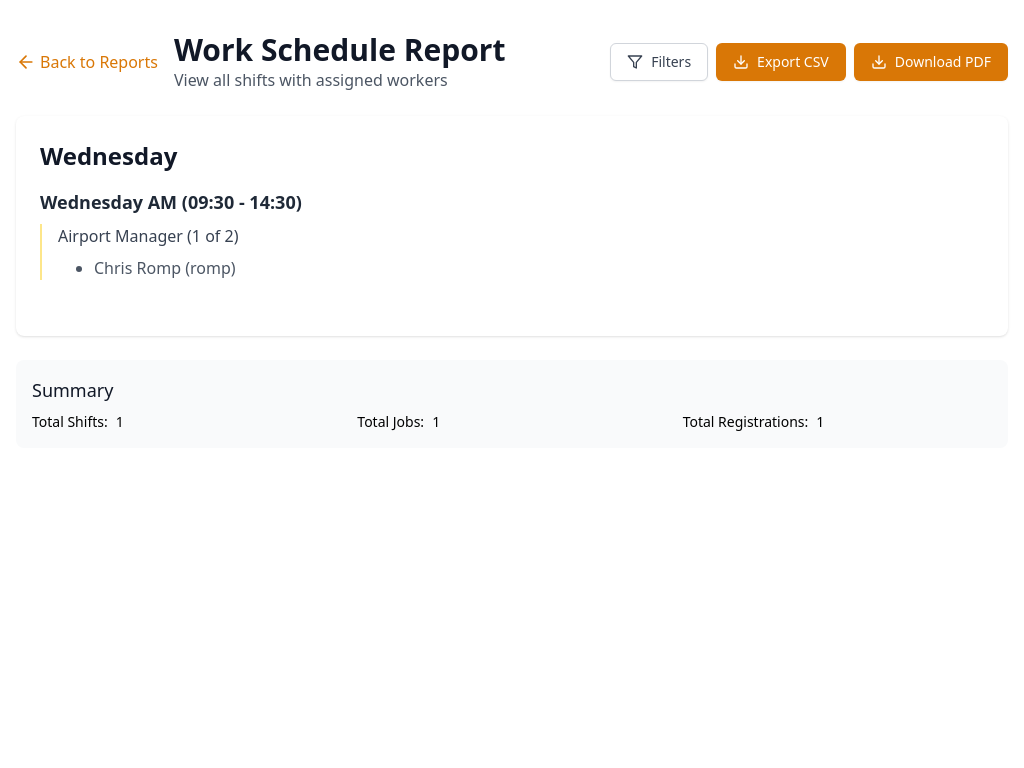
Test: WorkScheduleReportPage › shouldDisplayPdfGenerationErrors
Expected: the heading "Wednesday" is shown, [40,139,177,172]
Click the button "Download PDF": (931,62) [854,43,1008,81]
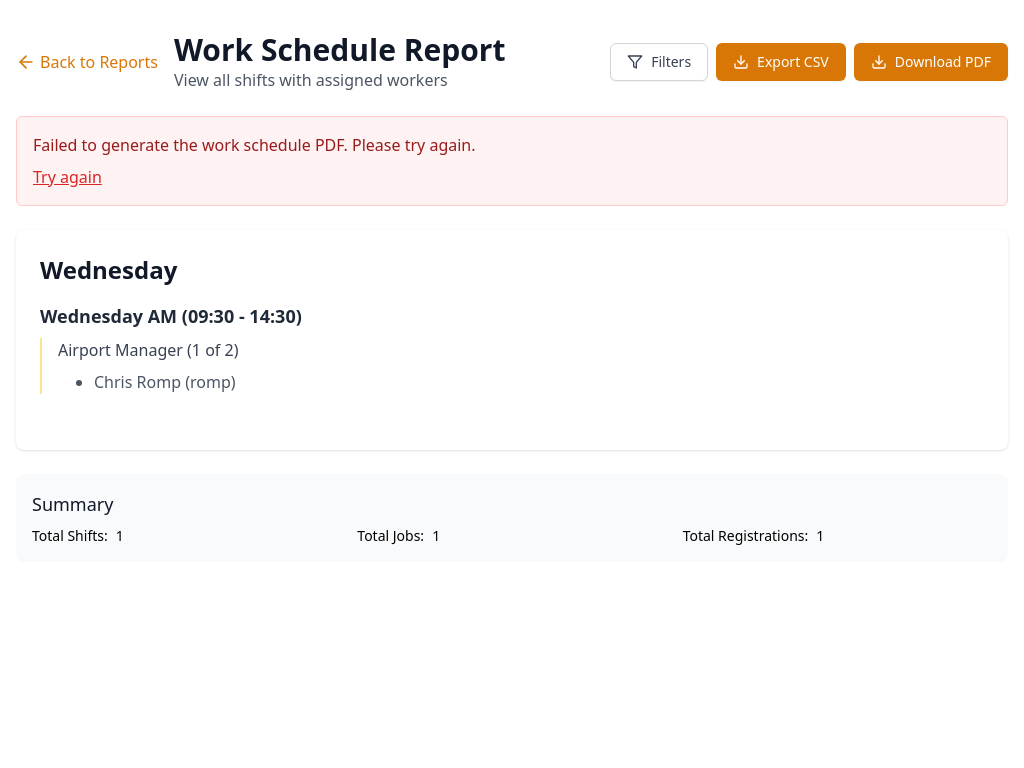
Result: the text "Failed to generate the work schedule PDF. Please try again." is shown at [33,134,476,156]
